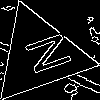N: (14, 30, 73, 80)
